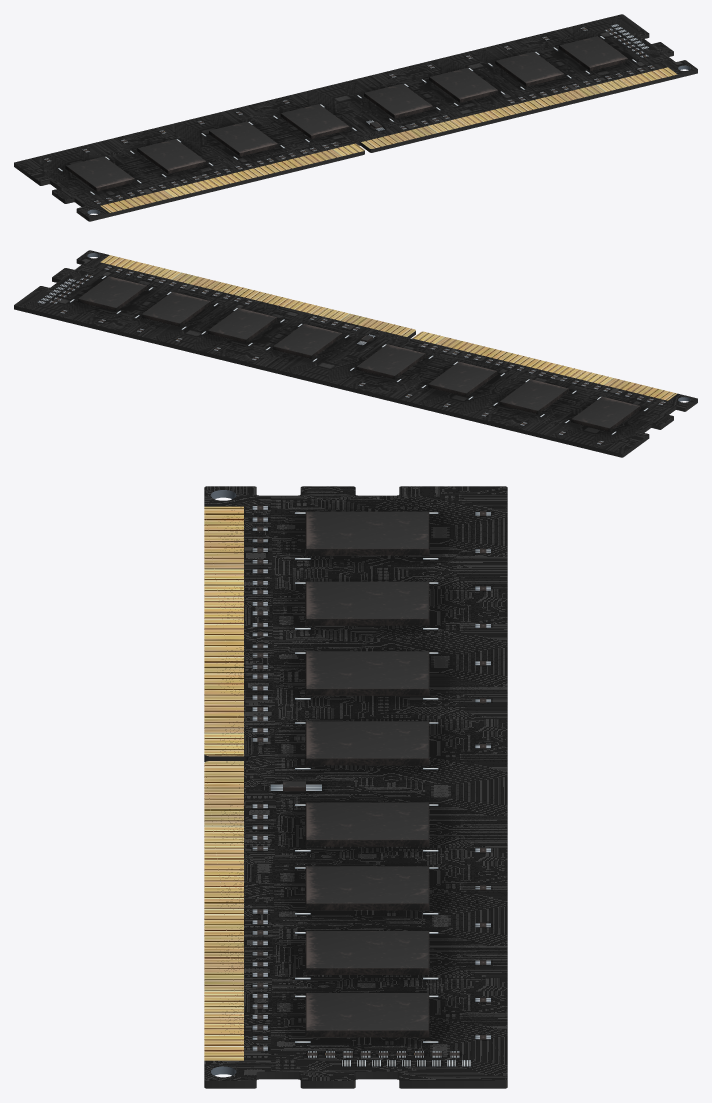
Rendered from random_access_memory_ram_ddr3_black.glb.
3 renders of one model, top to bottom at view 1: azimuth 30°, elevation 25°; view 2: azimuth 150°, elevation 25°; view 3: azimuth 270°, elevation 25°, orthographic. The views are drawn at different scales.
Visible parts, largest first — view 1: MEmoryQ_MEm002_0_0; view 2: MEmoryQ_MEm002_0_0; view 3: MEmoryQ_MEm002_0_0.
Part boxes in pixels (x1,y1,x2,y2): MEmoryQ_MEm002_0_0: (14,14,697,221); MEmoryQ_MEm002_0_0: (14,250,697,457); MEmoryQ_MEm002_0_0: (204,486,507,1088).
Bounding box in the file's own units: 1300 × 15.24 × 280.
Materials: 1 (1 with a texture image).
